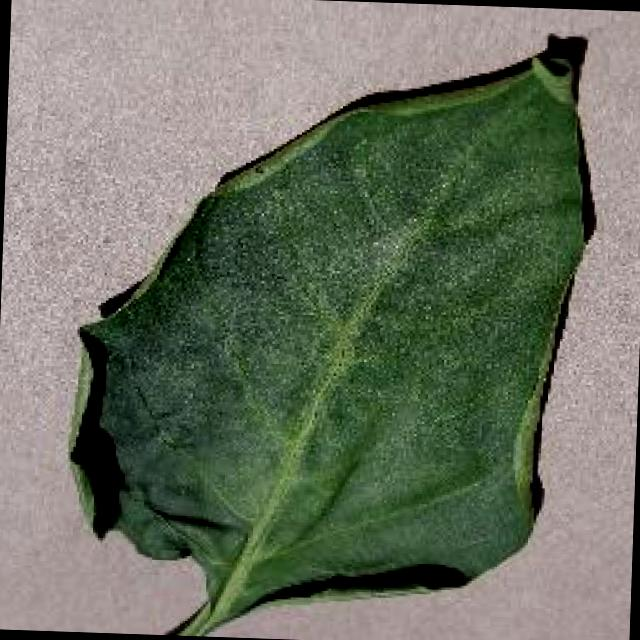Leaf: (50, 9, 628, 640)
